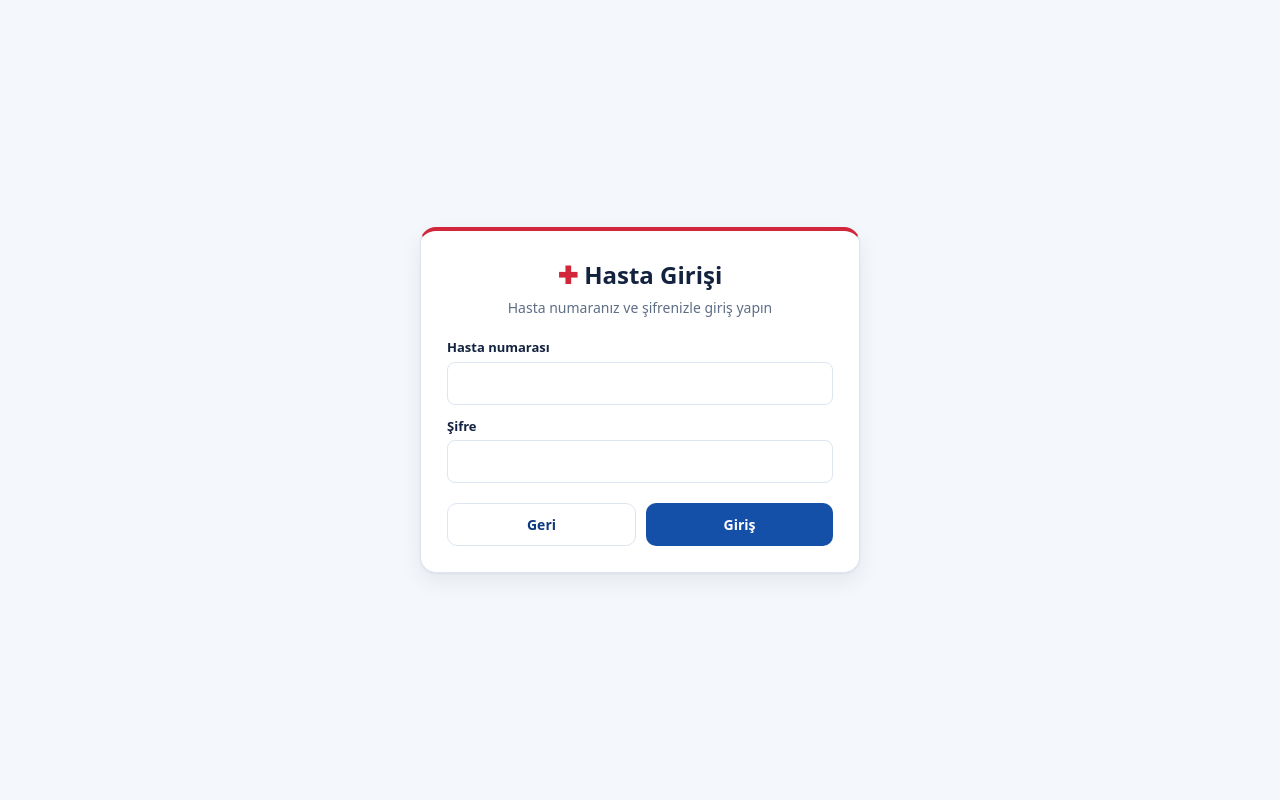
patient login › signs in with patient number and password and opens the booking
Expected: the heading "Hasta Girişi" is shown, [584, 258, 722, 291]
Type "1421986987763" into the field labelled "Hasta numarası" at {"x": 640, "y": 383}, box [447, 362, 833, 404]
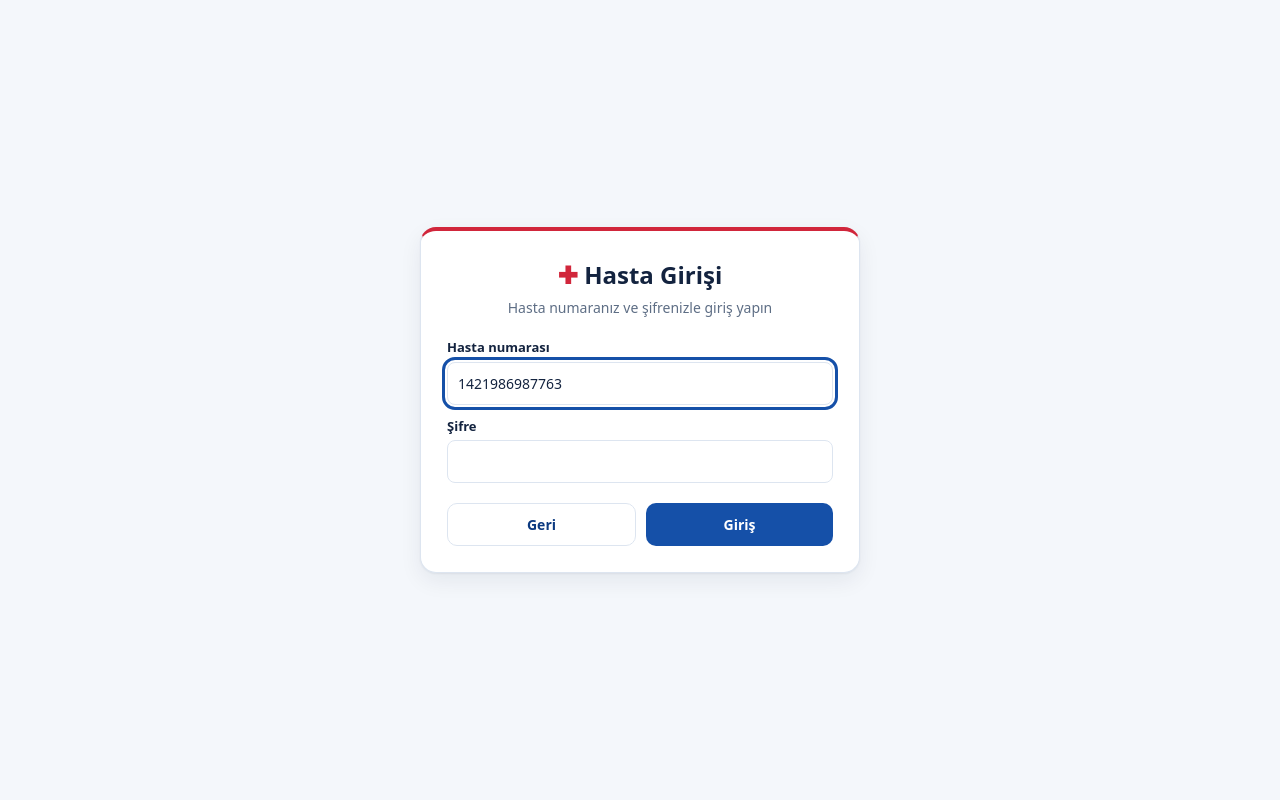
Type "demo1234" into the password field labelled "Şifre" at {"x": 640, "y": 462}, box [447, 440, 833, 483]
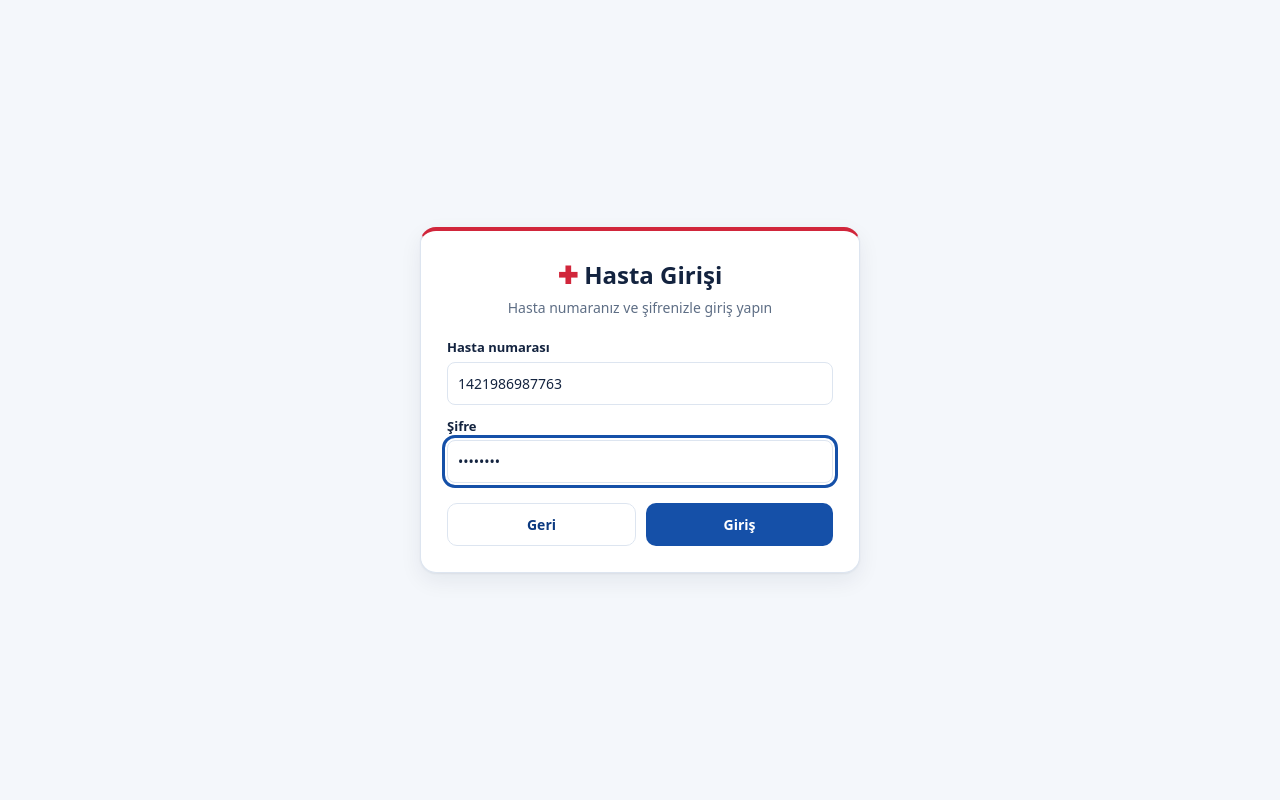
Click the button "Giriş" at {"x": 740, "y": 524}, box [646, 503, 833, 546]
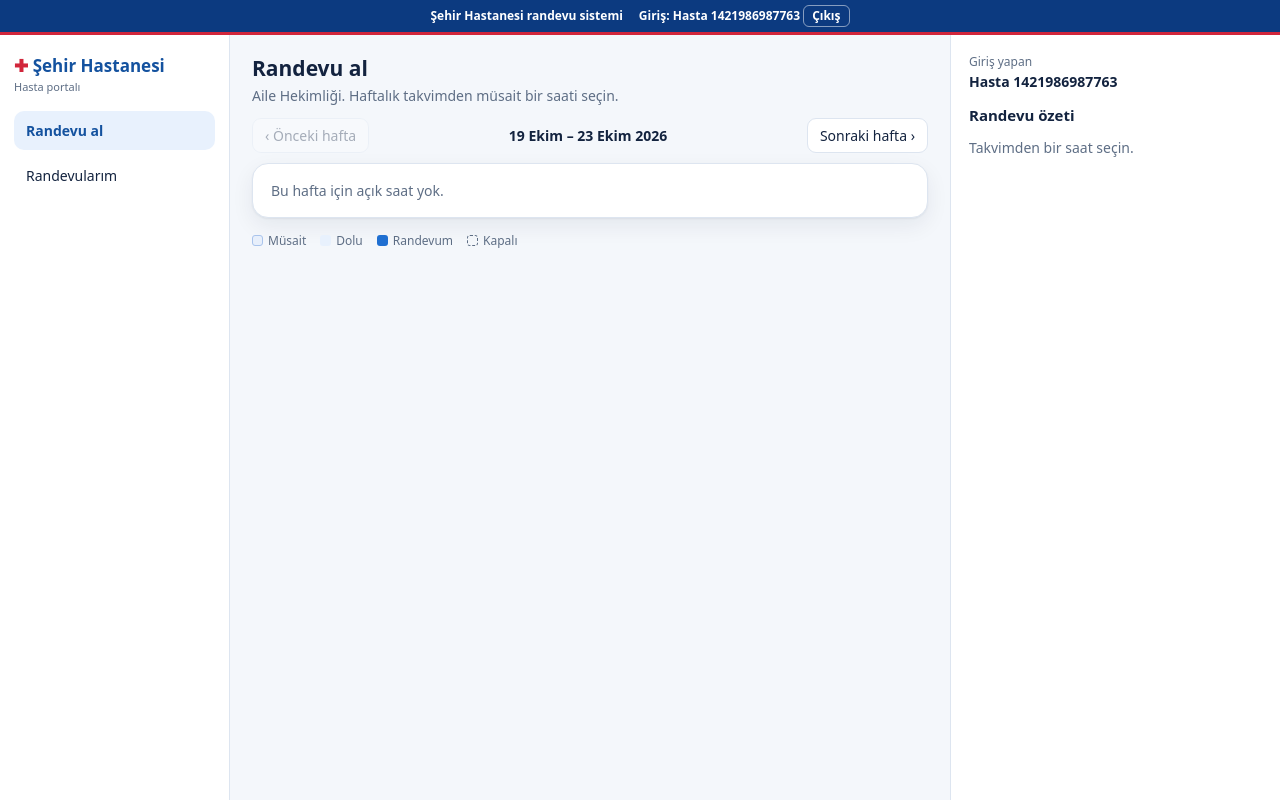
Expected: the heading "Randevu al" is shown, [252, 54, 368, 82]
Expected: the text "Hasta 1421986987763" next to "Giriş:" is shown, [673, 7, 800, 24]
